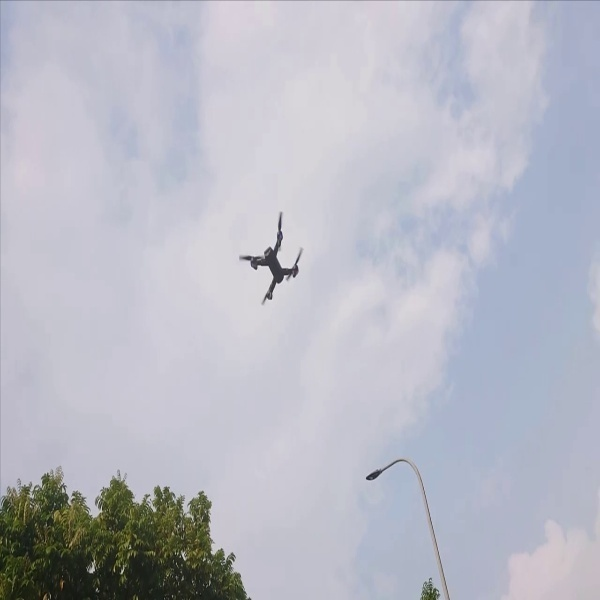drone: (231, 213, 305, 310)
